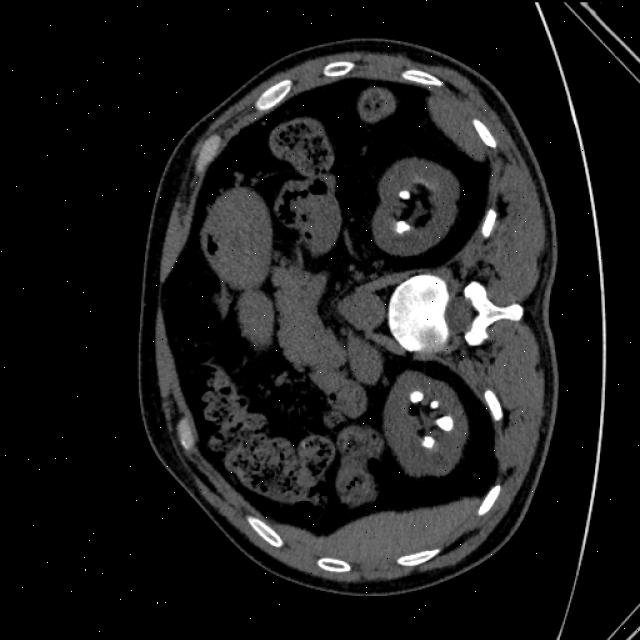kidneystone: (390, 182, 424, 222), (399, 190, 409, 217), (436, 415, 453, 430), (396, 219, 411, 232), (396, 219, 409, 231), (411, 390, 423, 401), (424, 435, 433, 448), (429, 400, 439, 409)
